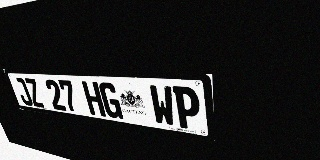2: (44, 79, 67, 111)
7: (57, 80, 80, 113)
G: (98, 82, 123, 119)
H: (81, 81, 106, 117)
J: (13, 78, 34, 106)
P: (172, 86, 201, 131)
W: (148, 85, 176, 127)
Z: (23, 78, 45, 108)
